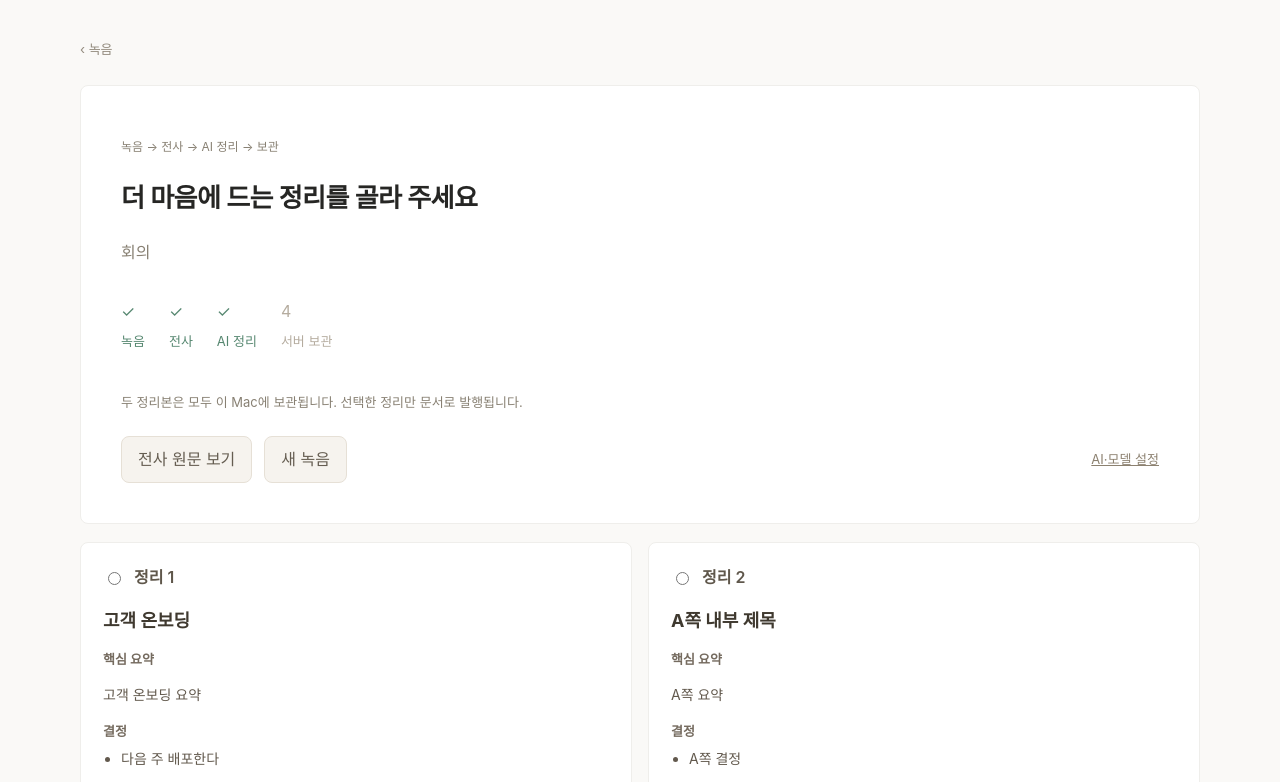
Test case: processing status › surfaces comparison submission errors without dropping the form
Expected: the heading "더 마음에 드는 정리를 골라 주세요" is shown, [121,182,477,213]
Click the radio button labelled "정리 2". click: (682, 578)
box: [676,572,689,585]
(page scrolled)
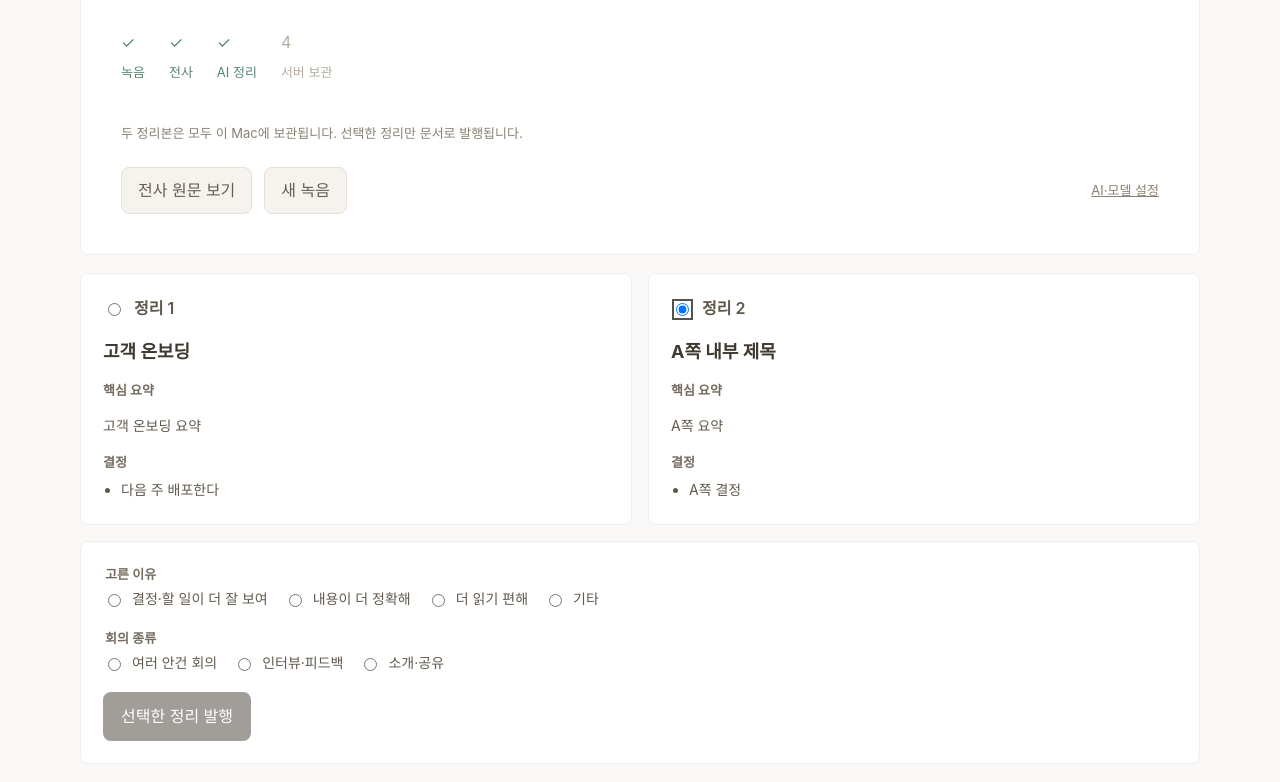
Click the radio button labelled "기타". click: (556, 601)
box: [549,594,562,607]
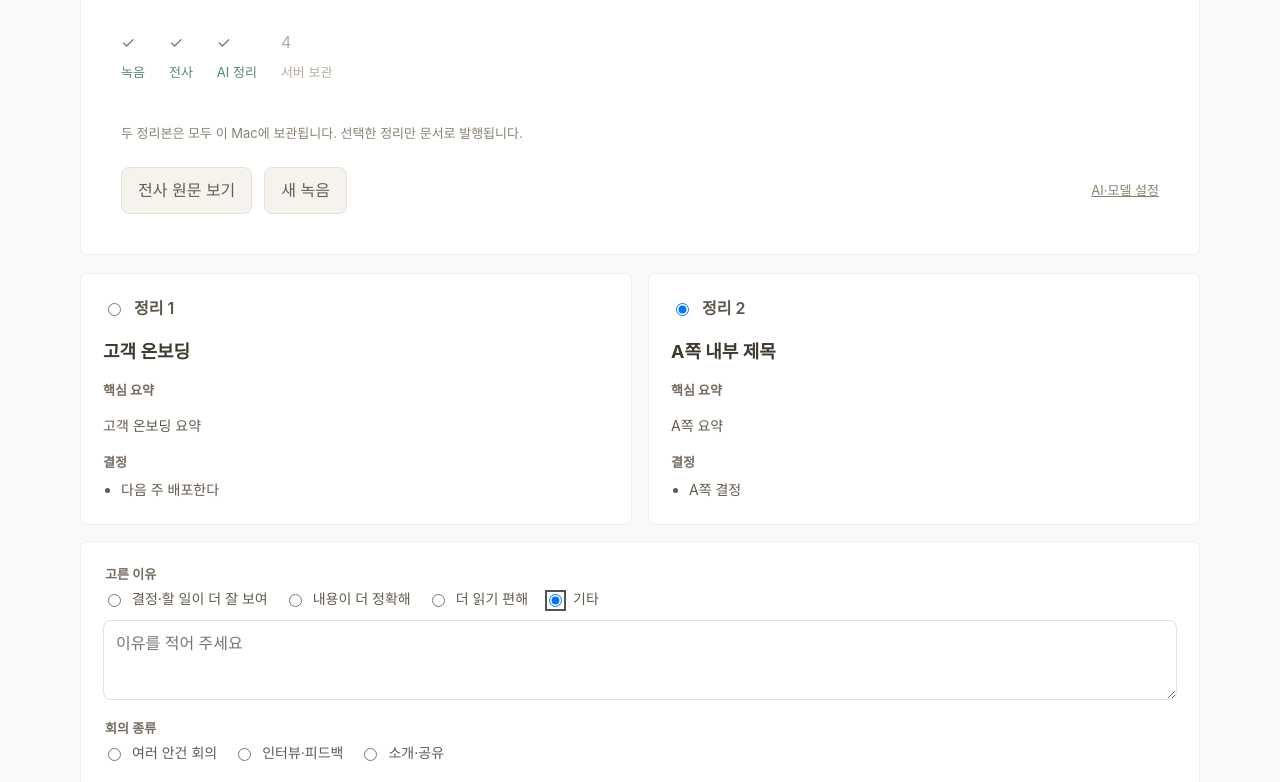
Type "구조가 낫다" into the text box with placeholder "이유를 적어 주세요". click: (640, 660)
box: [103,620,1177,700]
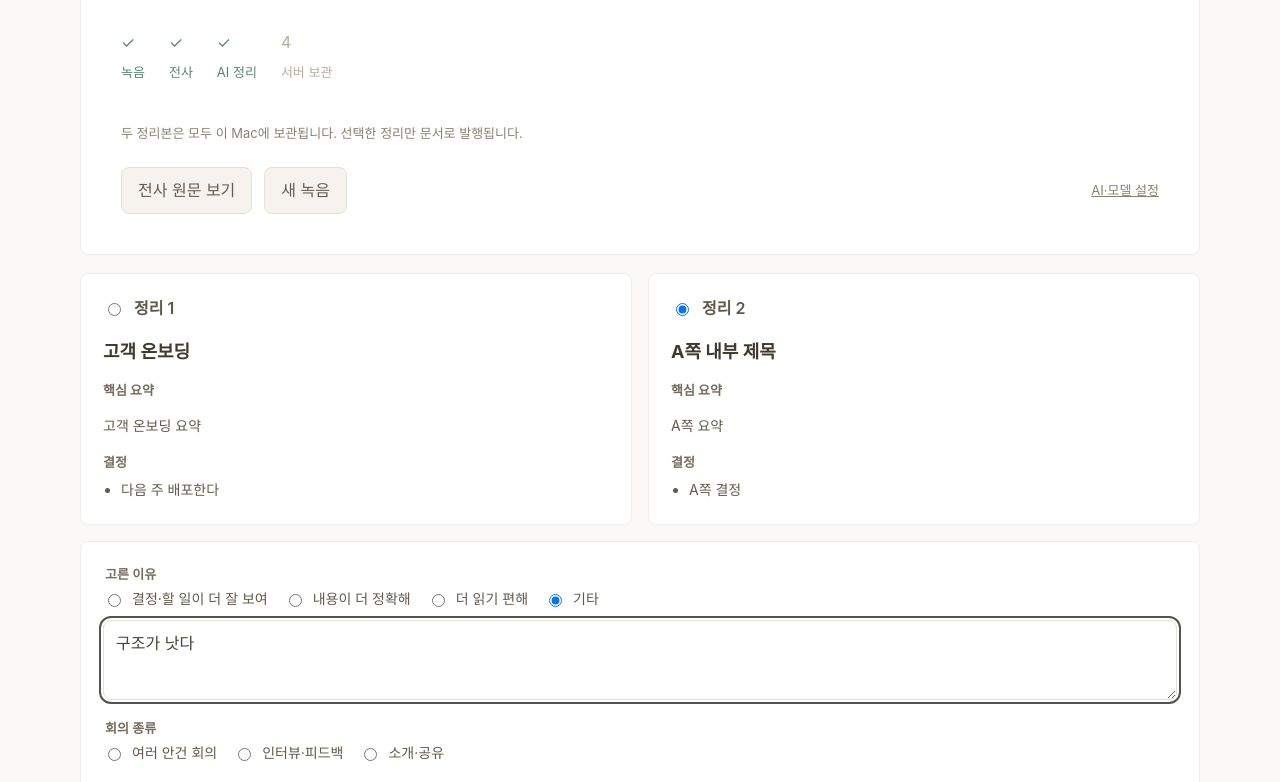
Click the radio button labelled "인터뷰·피드백". click: (245, 754)
box: [238,748,251,761]
(page scrolled)
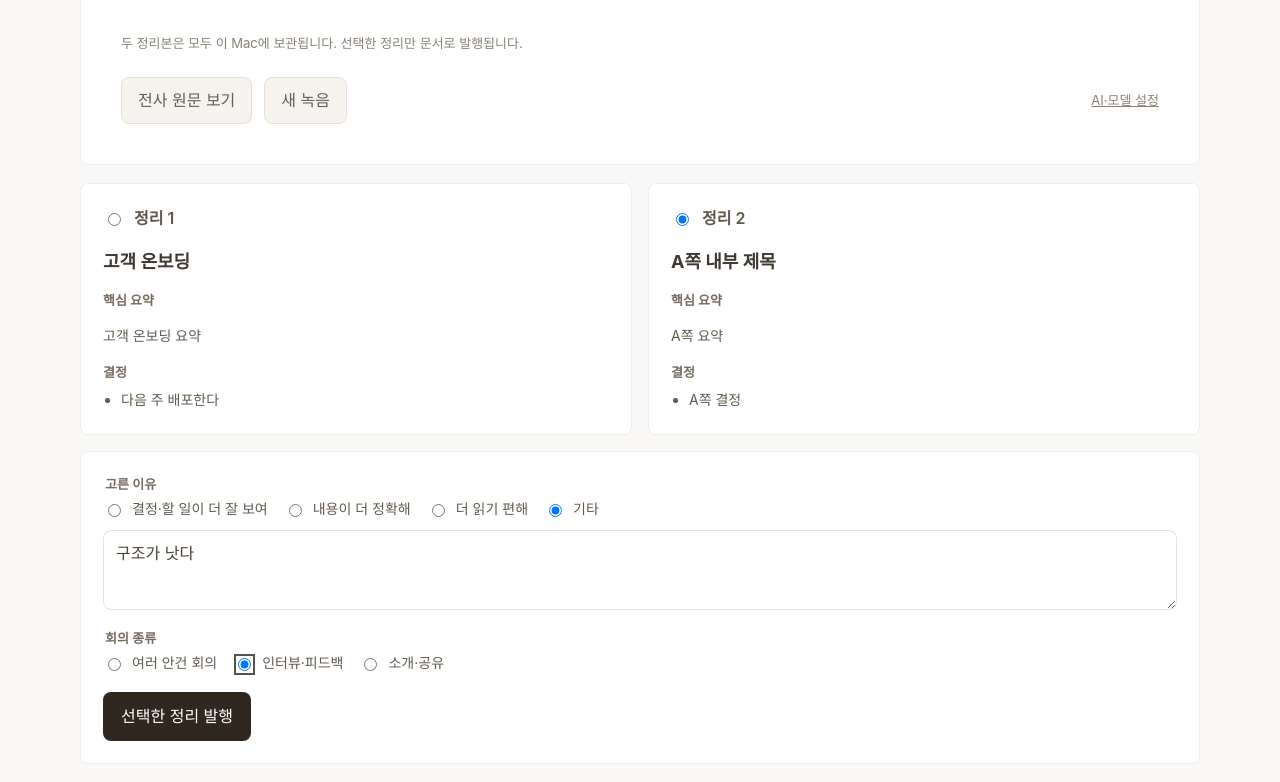
Click the button "선택한 정리 발행". click: (177, 716)
box: [103,692,251,740]
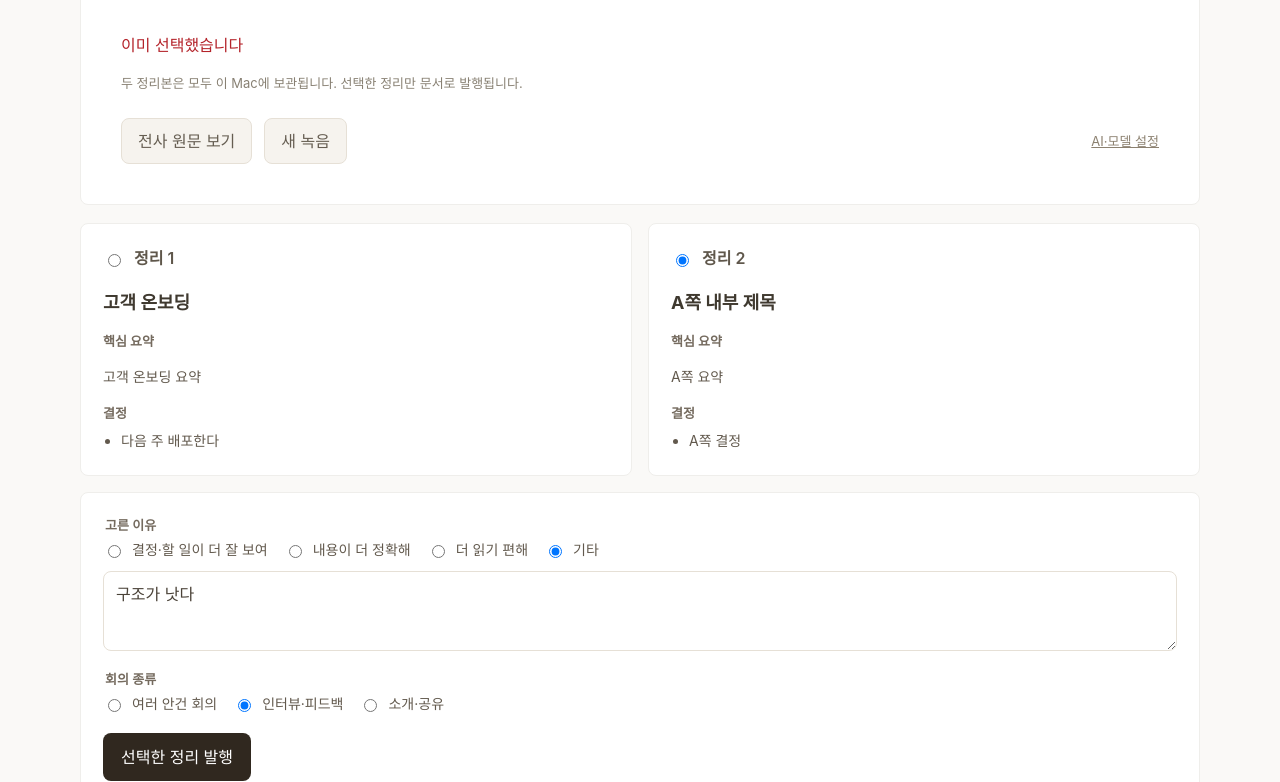
Now the message reads "이미 선택했습니다", box [121,35,243,55]
